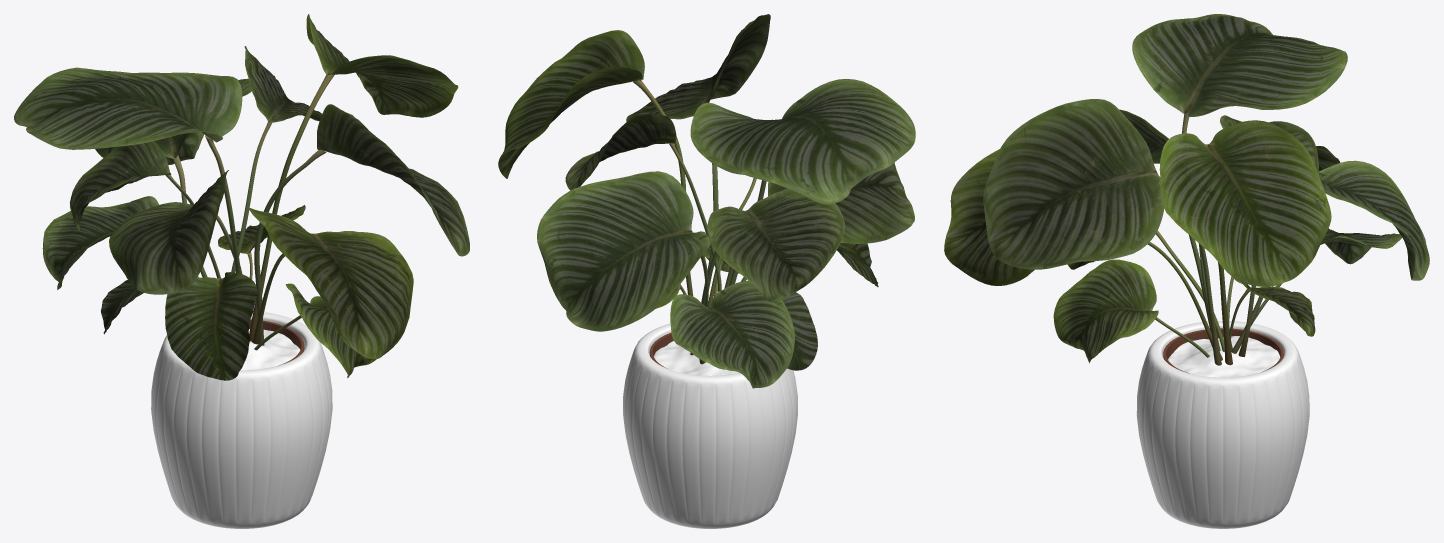
The model's file is Plant2.glb.
The picture shows the model from 3 angles, left to right: view 1: azimuth 30°, elevation 25°; view 2: azimuth 150°, elevation 25°; view 3: azimuth 270°, elevation 25°; orthographic projection. The views are drawn at different scales.
Visible parts, largest first — view 1: calathea Leaves, Ceramic pot, Soil; view 2: calathea Leaves, Ceramic pot, Soil; view 3: calathea Leaves, Ceramic pot, Soil, Plastic pot.
Part boxes in pixels (x1,y1,x2,y2): calathea Leaves: (14, 14, 469, 380); Ceramic pot: (151, 312, 332, 528); Soil: (240, 329, 300, 370); calathea Leaves: (498, 14, 915, 388); Ceramic pot: (623, 323, 797, 528); Soil: (653, 341, 739, 375); calathea Leaves: (944, 14, 1429, 365); Ceramic pot: (1136, 321, 1309, 528); Soil: (1168, 336, 1280, 377); Plastic pot: (1163, 328, 1283, 373).
Bounding box in the file's own units: 1.67 × 1.72 × 1.78.
4 materials, 1 textured.
